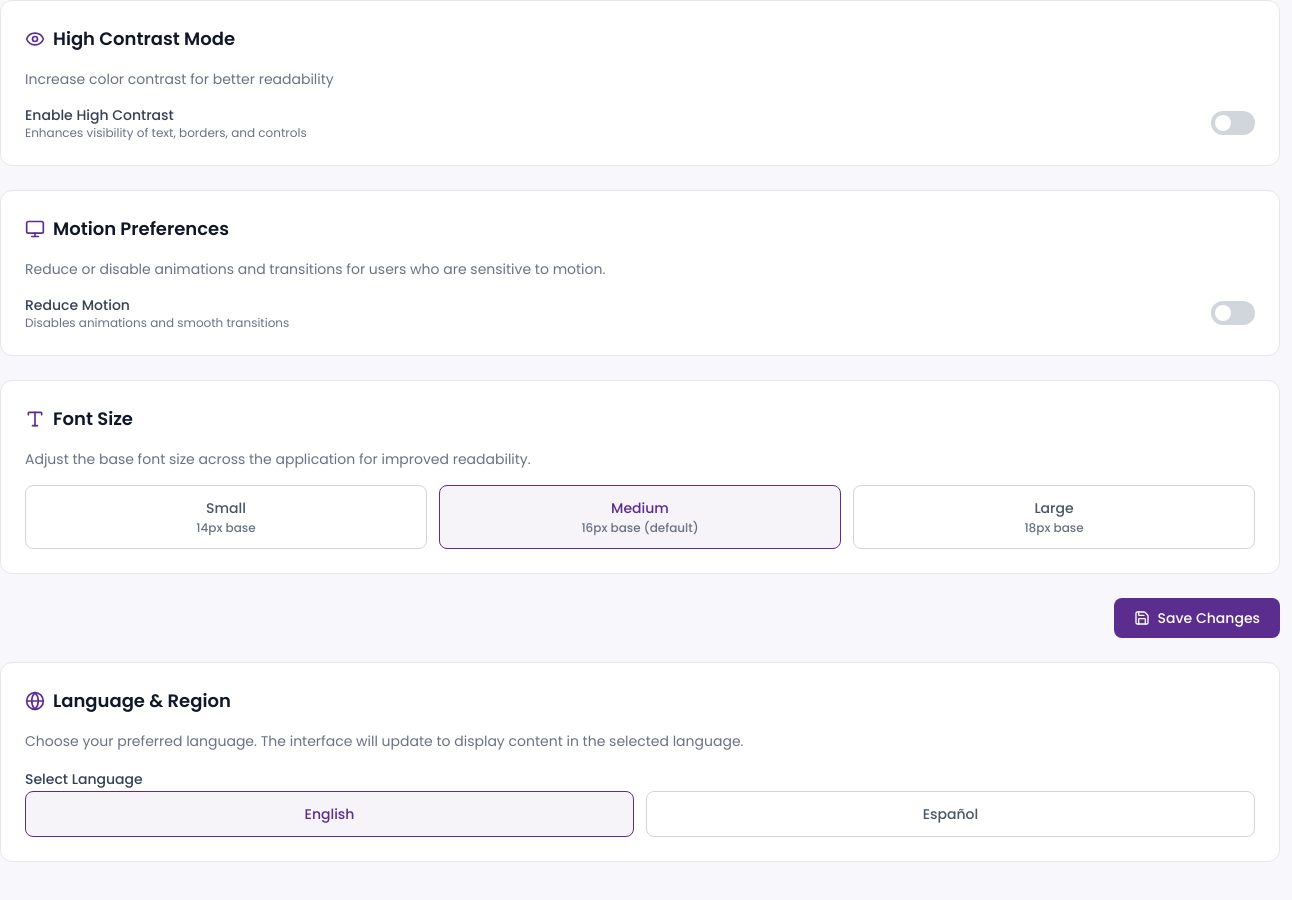
AccessibilitySettings › saves settings on save button click
Note: Toggle high contrast on
Click the switch in the row of "Enable High Contrast".
click(1233, 123)  # box [1211,111,1255,135]
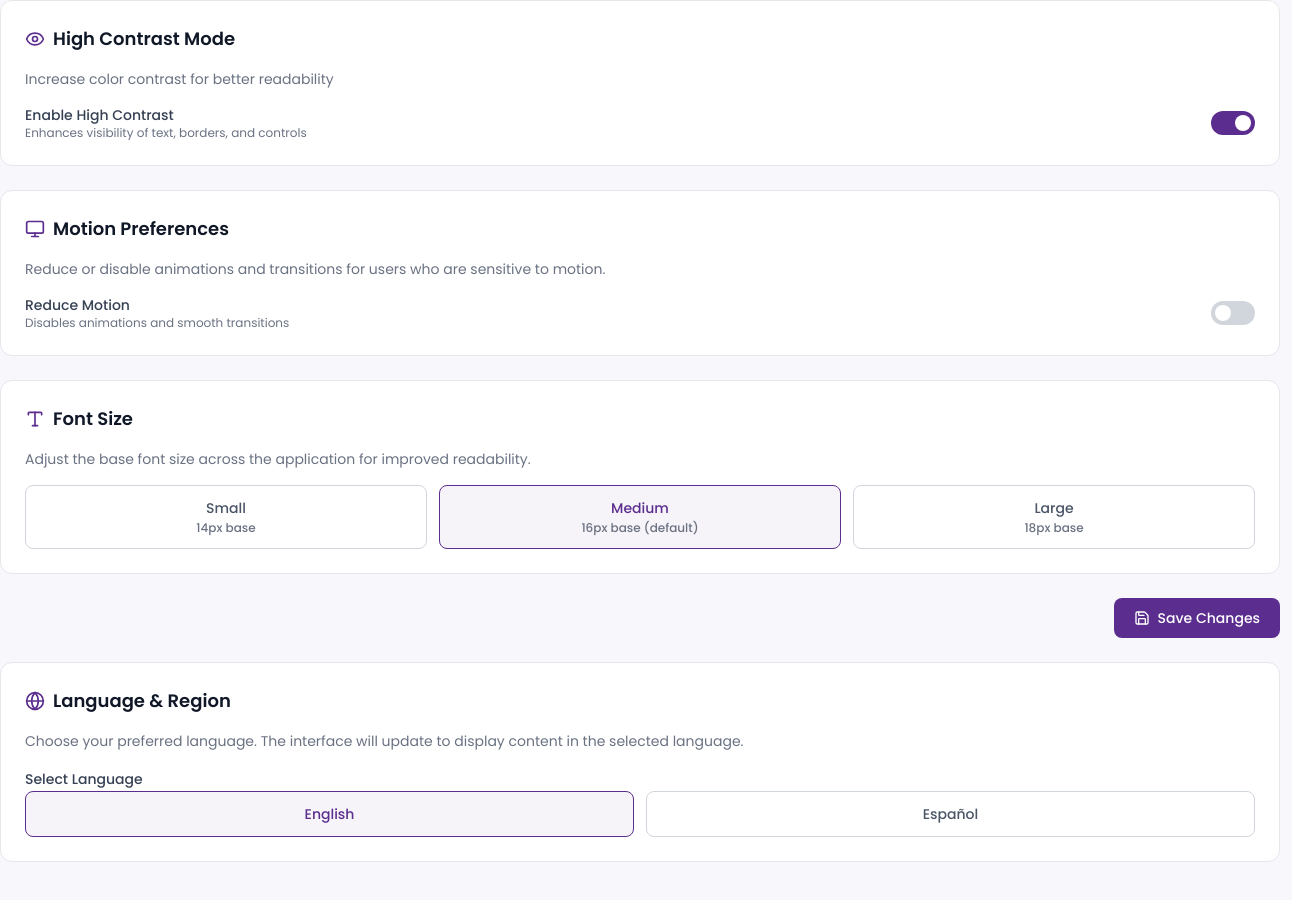
Note: Click save
Click the button "Save Changes".
click(1197, 618)  # box [1114,598,1280,638]
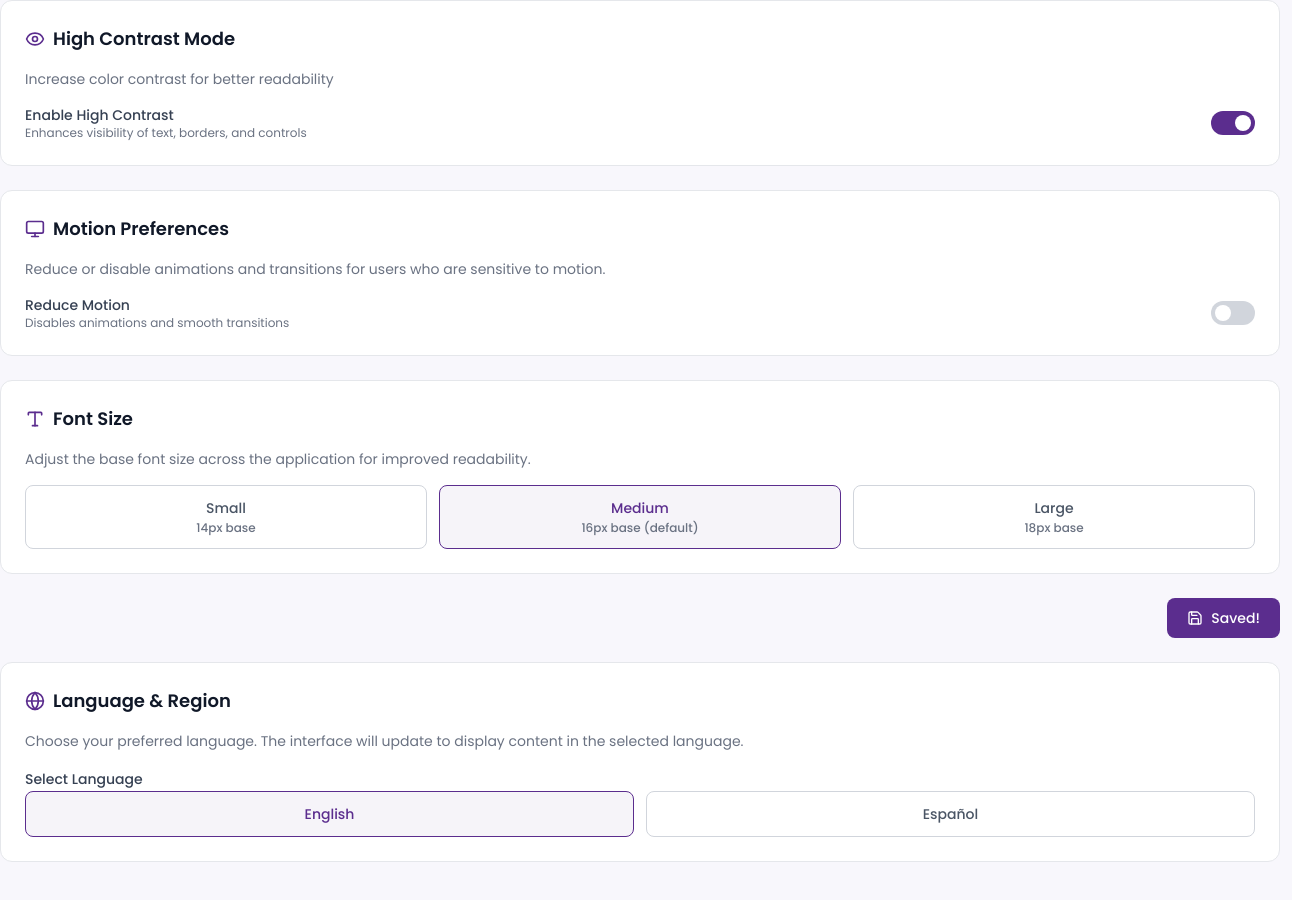
Now the button "Saved!" is shown, box [1167,598,1280,638]
